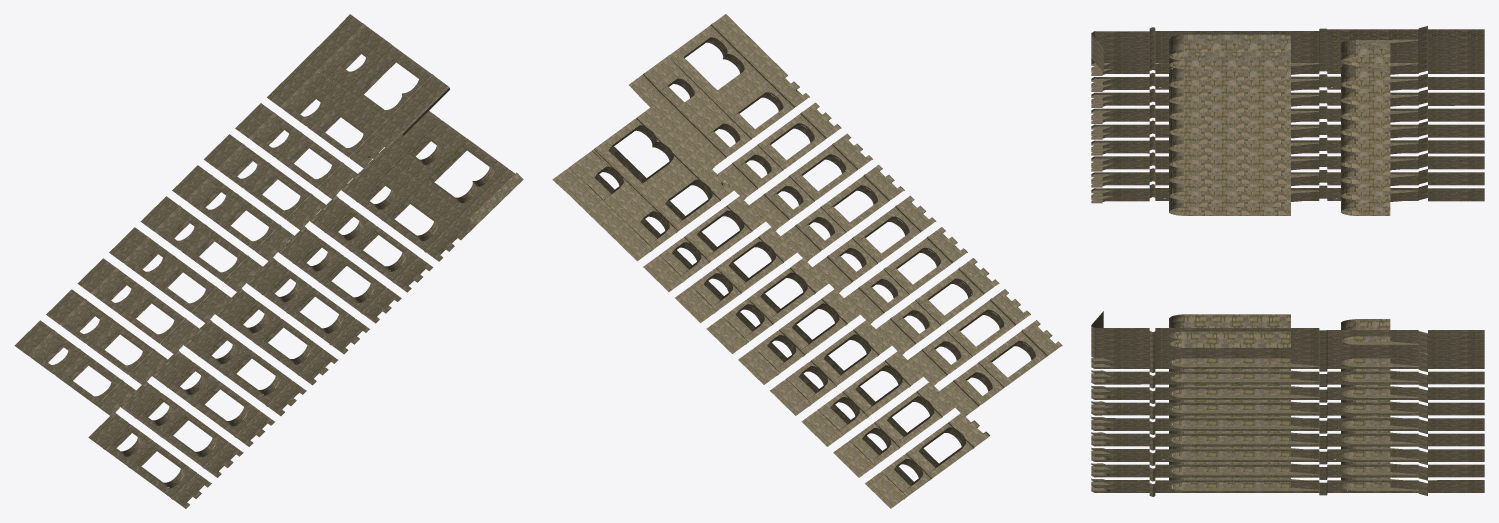
The model's file is GreatHallWalls_Fixed.fbx.
The picture shows the model from 3 angles, left to right: view 1: azimuth 30°, elevation 25°; view 2: azimuth 150°, elevation 25°; view 3: azimuth 270°, elevation 25°; orthographic projection. The views are drawn at different scales.
Visible parts, largest first — view 1: Great Hall Walls; view 2: Great Hall Walls; view 3: Great Hall Walls.
Boxes of the visible parts, x1,y1,x2,y2 form: Great Hall Walls: (14, 14, 523, 508); Great Hall Walls: (552, 14, 1062, 508); Great Hall Walls: (1091, 26, 1484, 496).
Bounding box in the file's own units: 8210 × 6872 × 3382.
